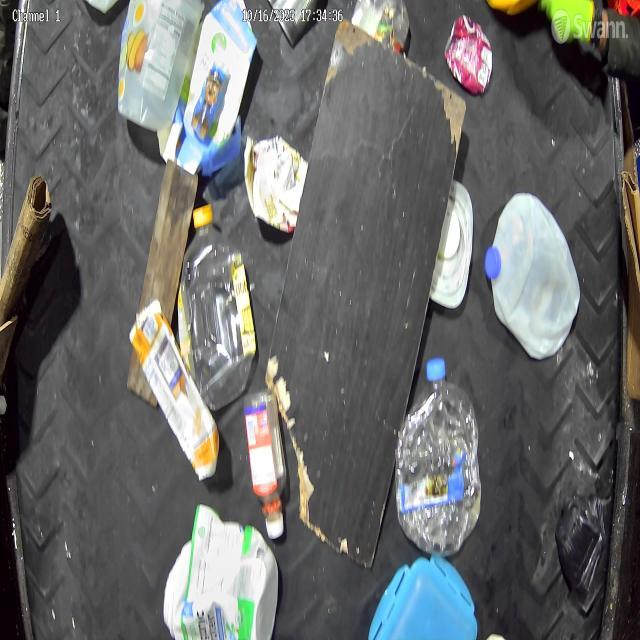can: (446, 10, 492, 94)
milk_jug: (483, 187, 579, 360)
non_white_jug: (372, 559, 476, 640)
plastic_bottle: (397, 356, 472, 556), (180, 202, 255, 392)
